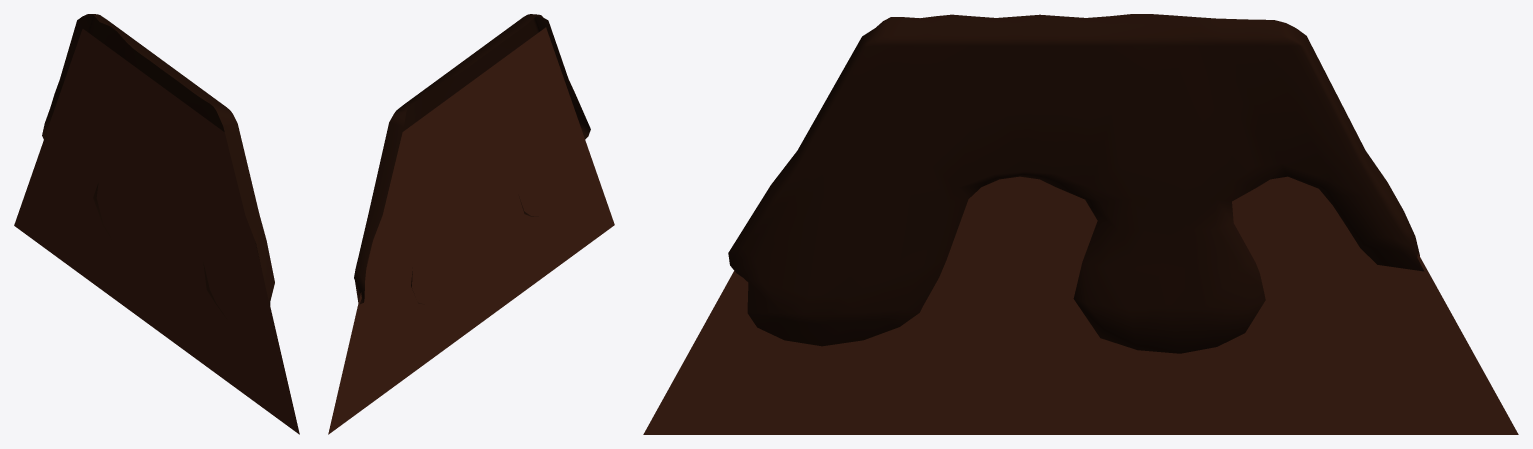
Rendered from ParalaxObject_PuddingMountain_Mesh_v01.fbx.
3 renders of one model, left to right at view 1: azimuth 30°, elevation 25°; view 2: azimuth 150°, elevation 25°; view 3: azimuth 270°, elevation 25°, orthographic. The views are drawn at different scales.
Parts seen in each view (by area): view 1: pPlane2, pPlane3; view 2: pPlane2, pPlane3; view 3: pPlane3, pPlane2.
Boxes of the visible parts, x1,y1,x2,y2 form: pPlane2: [14, 29, 299, 434]; pPlane3: [42, 14, 274, 318]; pPlane2: [328, 27, 614, 434]; pPlane3: [354, 14, 590, 304]; pPlane3: [728, 14, 1424, 353]; pPlane2: [643, 176, 1518, 434].
Size of the model in its own units: 2.15 by 31.42 by 59.91.
